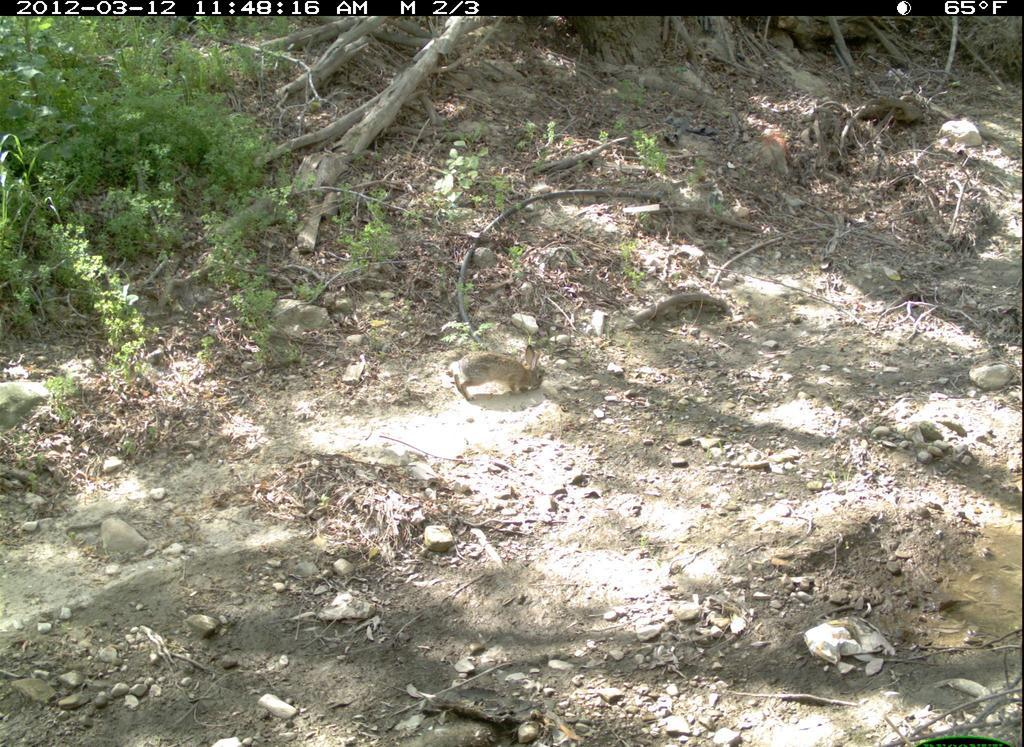rabbit: (443, 315, 561, 402)
